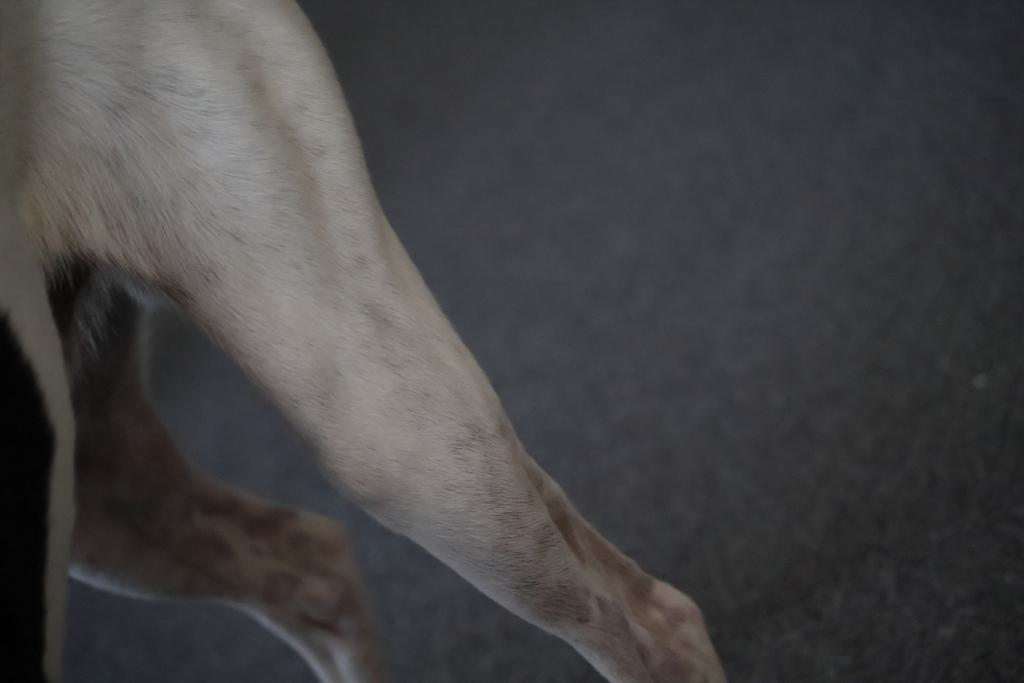Dog: (0, 0, 732, 683)
